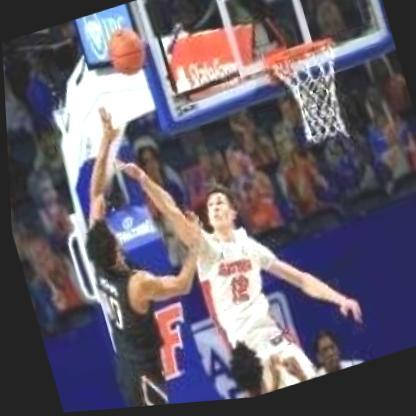basketball: (100, 22, 151, 84)
rim: (263, 33, 365, 164)
